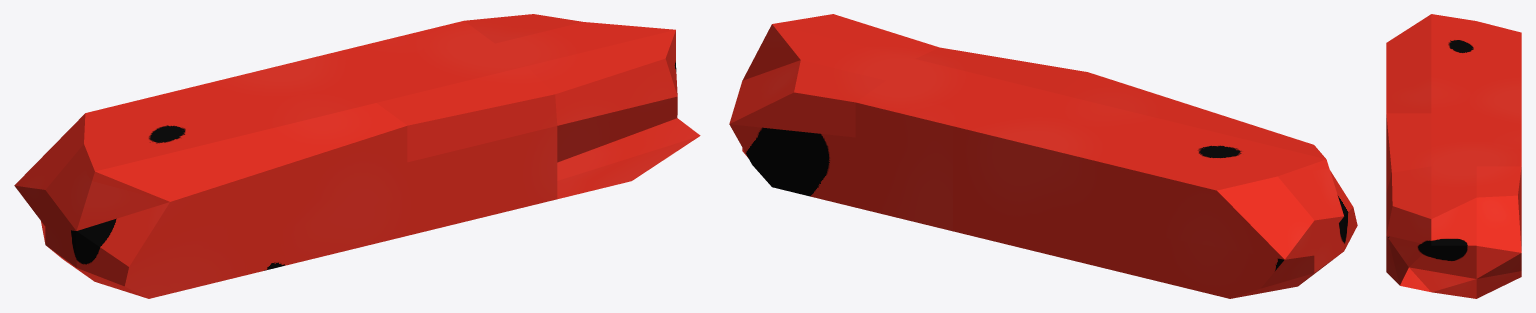
Rendered from 障碍物1(1).fbx.
3 renders of one model, left to right at view 1: azimuth 30°, elevation 25°; view 2: azimuth 150°, elevation 25°; view 3: azimuth 270°, elevation 25°, orthographic. The views are drawn at different scales.
Visible parts, largest first — view 1: 平面.036; view 2: 平面.036; view 3: 平面.036.
Boxes of the visible parts, x1,y1,x2,y2 form: 平面.036: [14, 14, 700, 298]; 平面.036: [729, 14, 1357, 298]; 平面.036: [1386, 14, 1521, 298].
Bounding box in the file's own units: 562 × 98.2 × 151.
